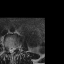CCS_normal: (10, 46, 12, 55)
LFS_normal: (14, 45, 17, 51)
LLS_normal: (12, 45, 14, 53)
RFS_normal: (6, 45, 8, 52)
RLS_normal: (8, 45, 10, 54)
